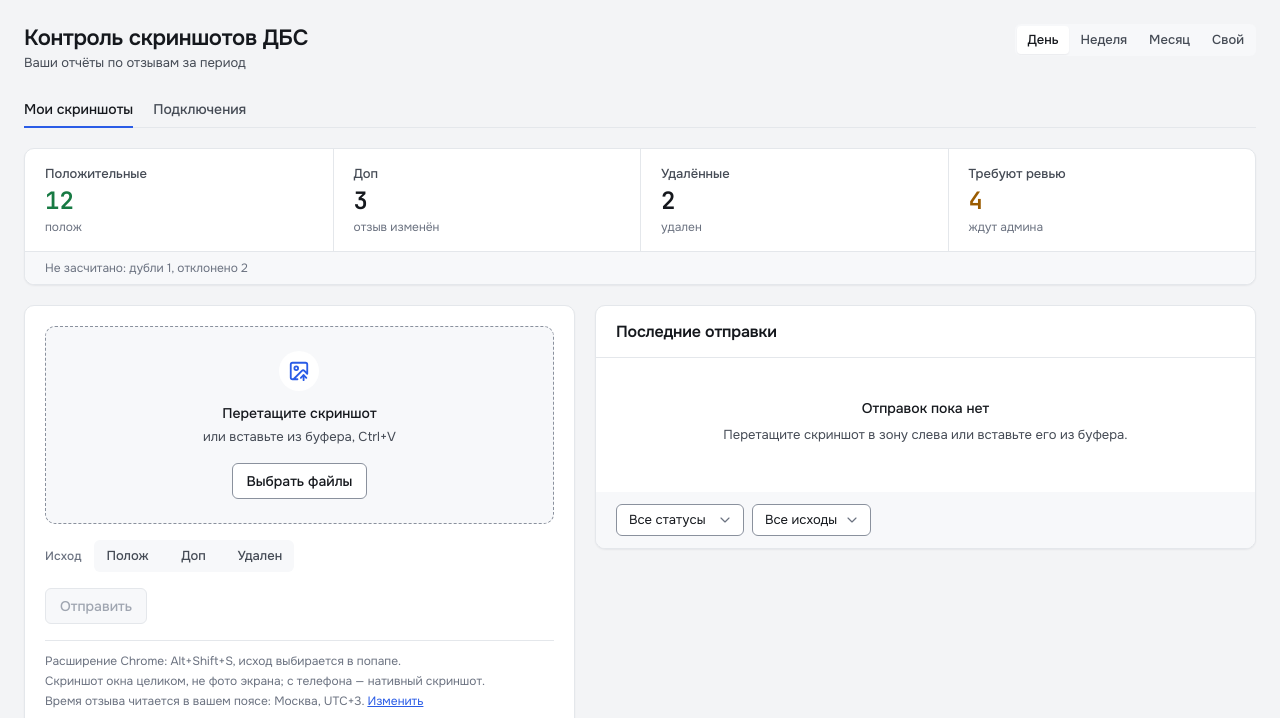
Test: ScreenshotControlPage › asks the summary for the chosen period
Expected: the text named "Положительные: 12" is shown, [45, 185, 74, 216]
Click the button "Месяц".
click(1170, 40)  # box [1139, 26, 1200, 54]
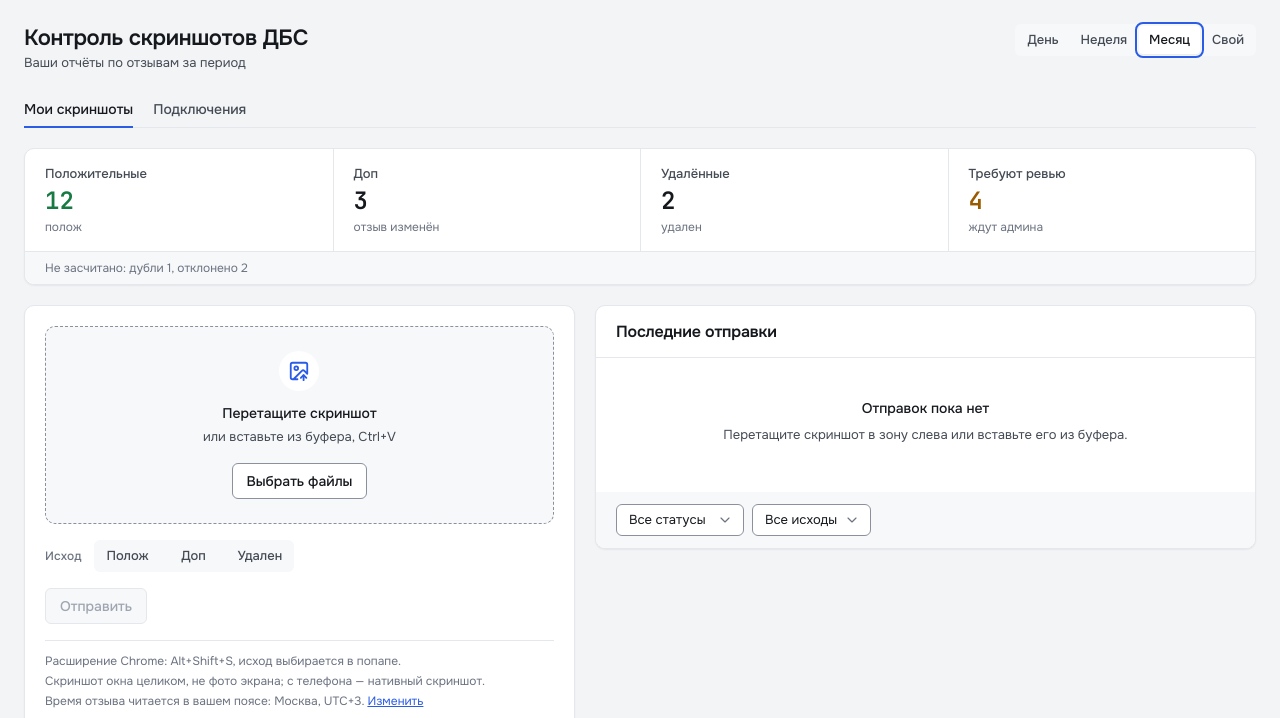
Click the button "Свой".
click(1228, 40)  # box [1202, 26, 1254, 54]
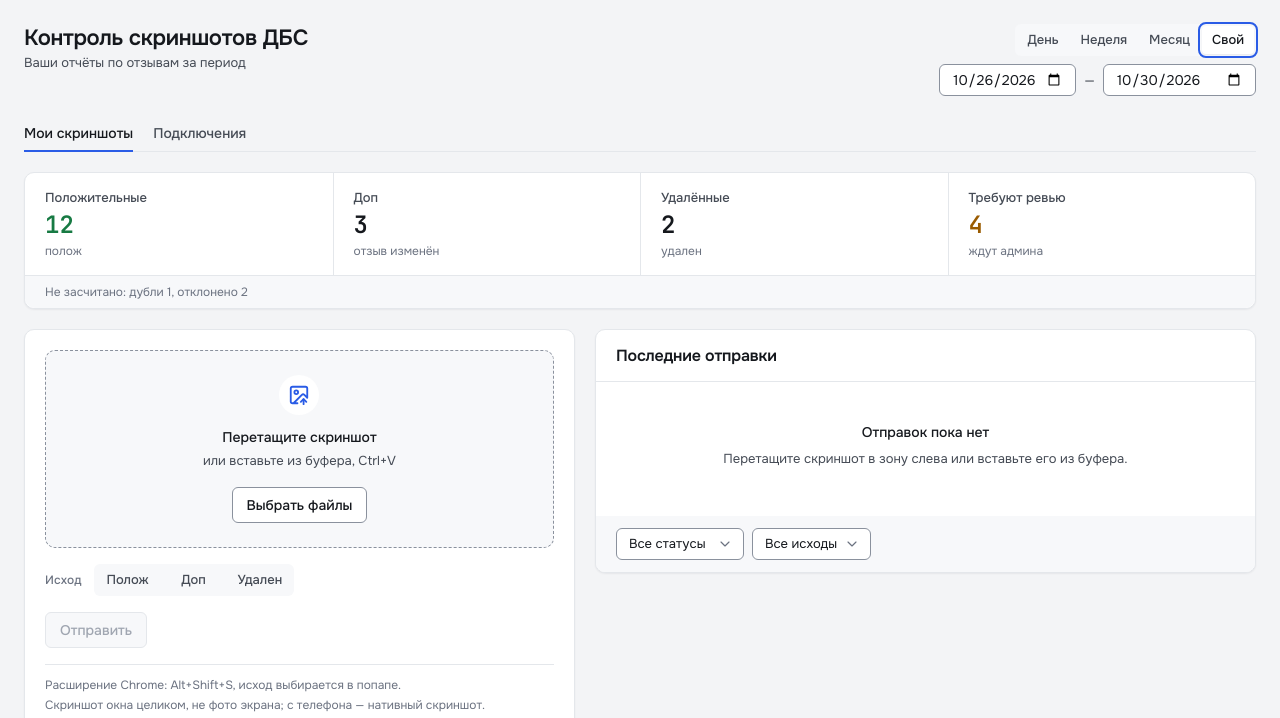
Type "2026-09-01" into the date field named "Начало периода".
click(1008, 80); type("2026-09-01")  # box [939, 64, 1076, 96]
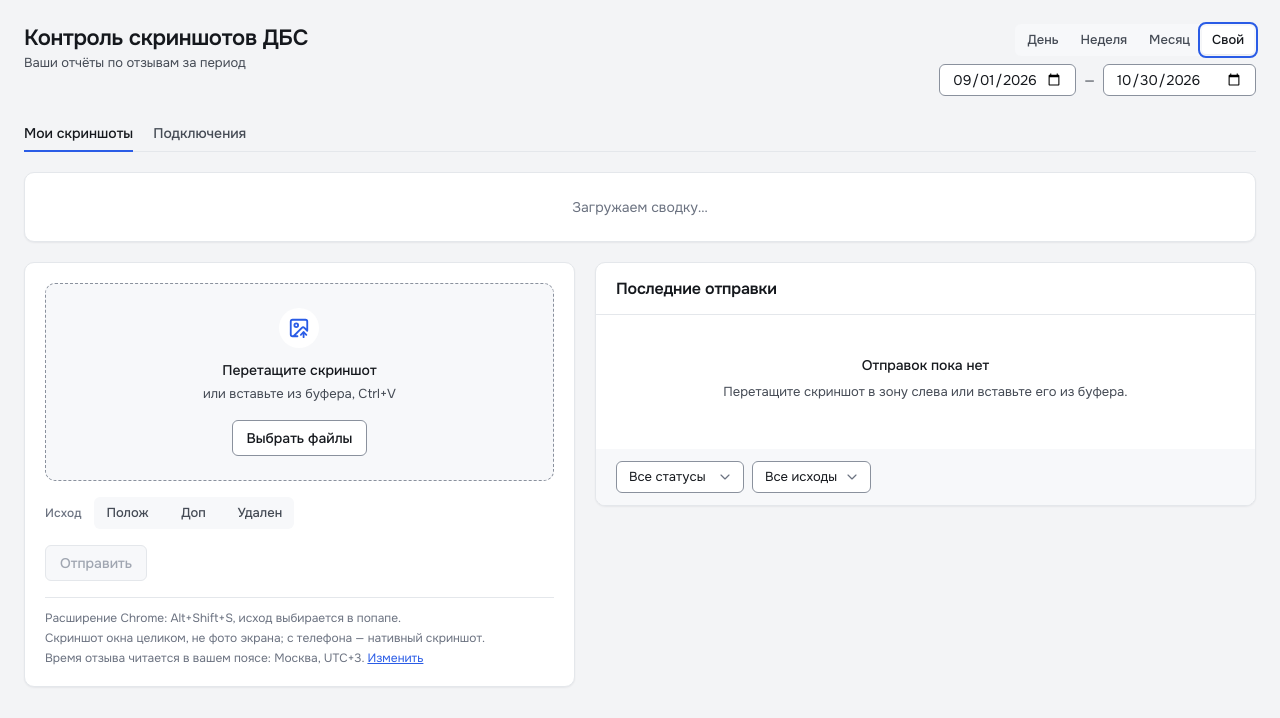
Type "2026-09-30" into the date field named "Конец периода".
click(1180, 80); type("2026-09-30")  # box [1103, 64, 1256, 96]
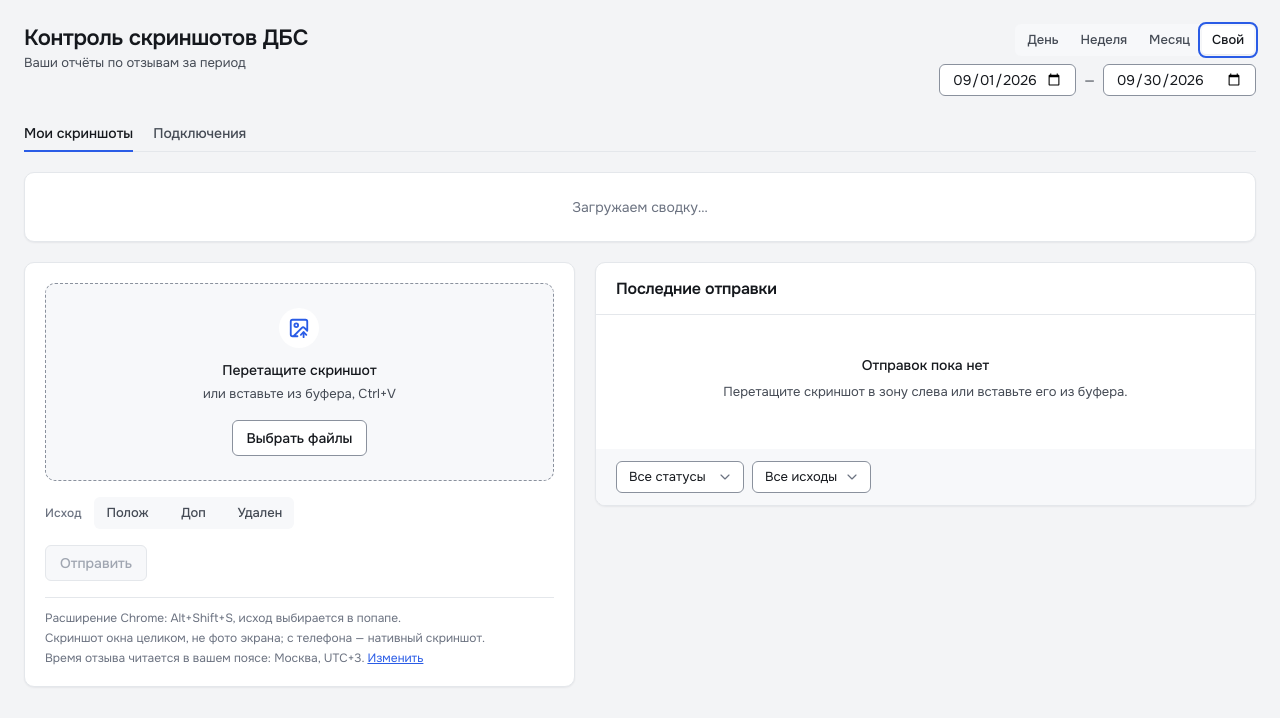
Type "2026-10-05" into the date field named "Начало периода".
click(1008, 80); type("2026-10-05")  # box [939, 64, 1076, 96]
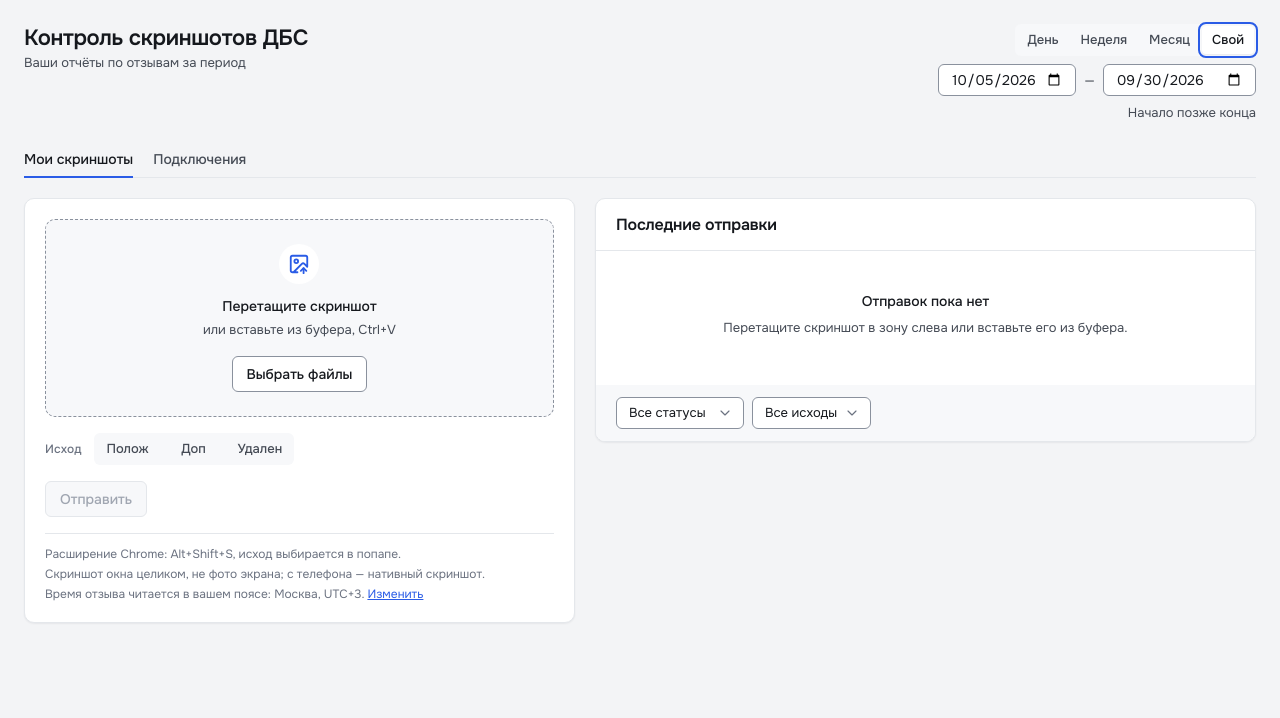
Expected: the text "Начало позже конца" is shown, [1128, 104, 1256, 122]
